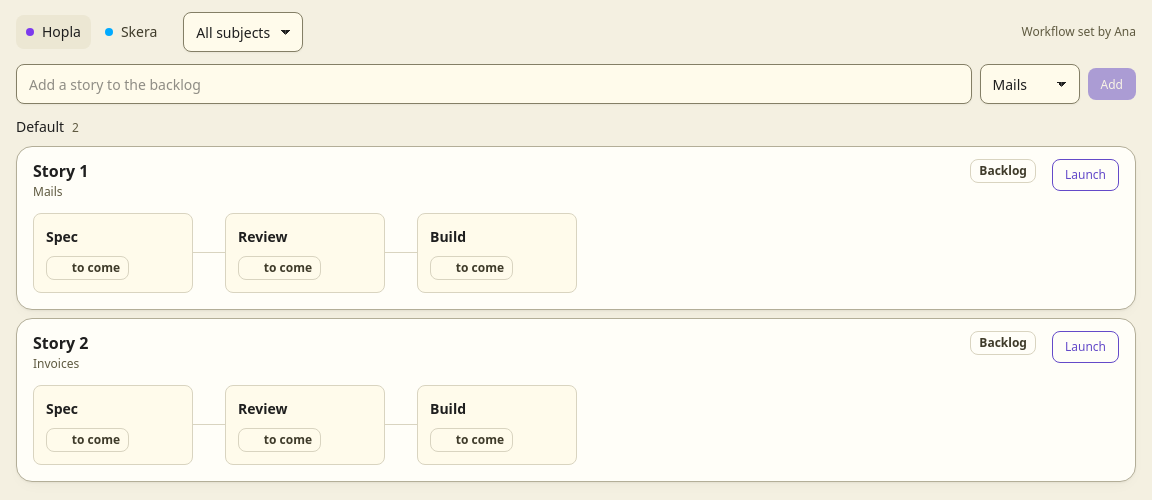
Test: the project pills and the filters › filters the cards by subject
Select "Invoices" in the dropdown named "Filter by subject": (243, 32) [183,12,303,52]
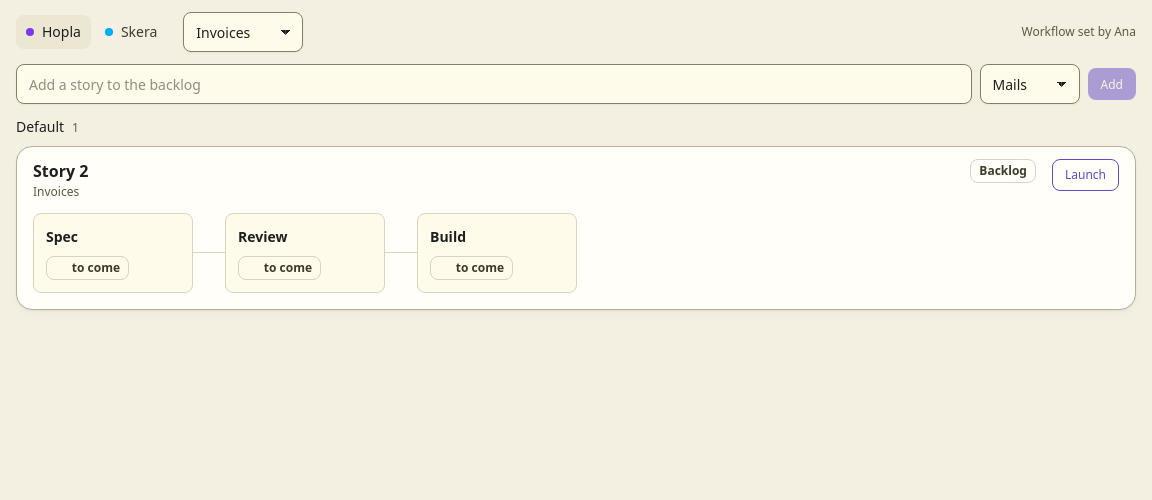
Check: the text "Story 2" is shown, box [33,159,88,183]
Check: the text "Story 1" is gone
